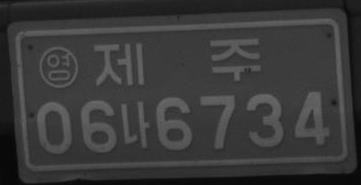0: (35, 99, 73, 156)
3: (246, 92, 284, 149)
4: (292, 90, 330, 145)
6: (154, 95, 194, 153), (79, 97, 118, 154)
7: (198, 93, 238, 149)
나: (119, 100, 151, 149)
영: (38, 44, 78, 90)
제주_D: (91, 35, 262, 87)
